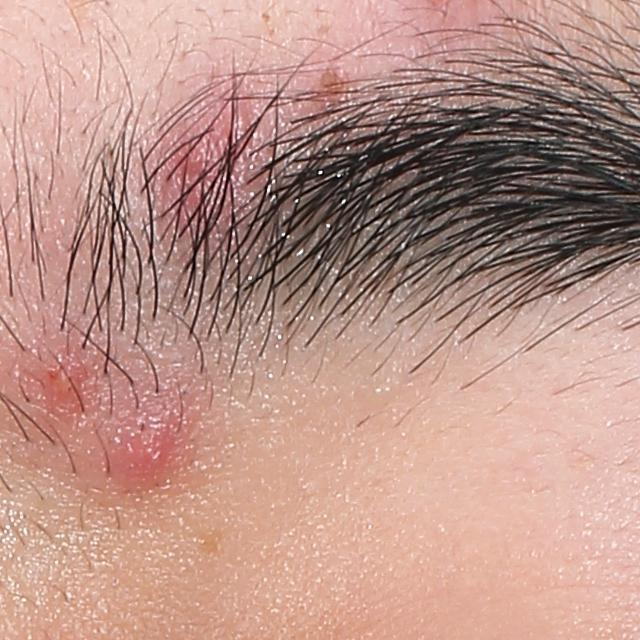comedo: (257, 9, 276, 27)
papule: (110, 403, 190, 478), (181, 132, 228, 190), (33, 352, 80, 404)
